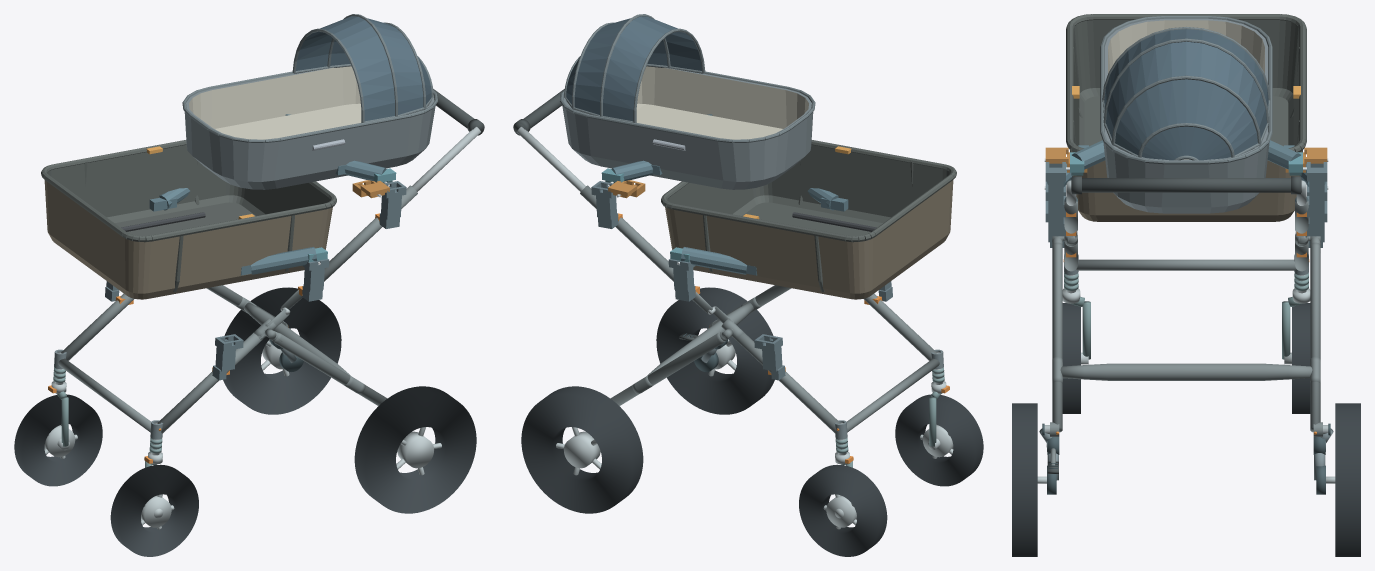
Rendered from D18_w650_state1_wheel_L.glb.
3 views of the same model, side by side, from view 1: azimuth 30°, elevation 25°; view 2: azimuth 150°, elevation 25°; view 3: azimuth 270°, elevation 25° (orthographic). The views are drawn at different scales.
Visible parts, largest first — view 1: D18_Lower, D18_Upper, RL_tire.008, RR_tire.008, FL_tire.008, FR_tire.008, D18_Lower_Mount_M, V46_rear_leg_-1.009, main_lower_-1.009, front_fixed_round_tube.008, main_upper_-1.009, main_lower_1.009 (+9 smaller); view 2: D18_Lower, D18_Upper, RR_tire.008, RL_tire.008, FR_tire.008, FL_tire.008, D18_Lower_Mount_M, V46_rear_leg_1.009, main_lower_1.009, front_fixed_round_tube.008, main_upper_1.009, main_lower_-1.009 (+9 smaller); view 3: D18_Upper, D18_Lower, V46_rearbar.009, RL_tire.008, RR_tire.008, round_handle.008, front_fixed_round_tube.008, FL_tire.008, FR_tire.008, V46_rear_leg_1.009, V46_rear_leg_-1.009, D18_Upper_Mount_H (+8 smaller).
Boxes of the visible parts, <box> form: D18_Lower: <box>41,140,336,299</box>; D18_Upper: <box>182,14,437,189</box>; RL_tire.008: <box>354,386,476,513</box>; RR_tire.008: <box>223,287,341,414</box>; FL_tire.008: <box>110,464,198,556</box>; FR_tire.008: <box>14,394,102,486</box>; D18_Lower_Mount_M: <box>149,188,327,275</box>; V46_rear_leg_-1.009: <box>272,332,387,405</box>; main_lower_-1.009: <box>157,332,264,433</box>; front_fixed_round_tube.008: <box>58,358,150,432</box>; main_upper_-1.009: <box>324,185,417,281</box>; main_lower_1.009: <box>61,293,133,360</box>; D18_Lower: <box>661,140,956,299</box>; D18_Upper: <box>560,14,815,189</box>; RR_tire.008: <box>521,386,643,513</box>; RL_tire.008: <box>656,287,774,414</box>; FR_tire.008: <box>799,464,887,556</box>; FL_tire.008: <box>895,394,983,486</box>; D18_Lower_Mount_M: <box>670,188,848,275</box>; V46_rear_leg_1.009: <box>610,332,725,405</box>; main_lower_1.009: <box>733,332,840,433</box>; front_fixed_round_tube.008: <box>847,358,939,432</box>; main_upper_1.009: <box>580,185,673,281</box>; main_lower_-1.009: <box>864,293,936,360</box>; D18_Upper: <box>1100,15,1272,213</box>; D18_Lower: <box>1066,14,1306,221</box>; V46_rearbar.009: <box>1060,363,1312,380</box>; RL_tire.008: <box>1012,403,1037,556</box>; RR_tire.008: <box>1335,403,1360,556</box>; round_handle.008: <box>1071,178,1301,192</box>; front_fixed_round_tube.008: <box>1076,259,1296,270</box>; FL_tire.008: <box>1062,303,1080,413</box>; FR_tire.008: <box>1292,303,1310,413</box>; V46_rear_leg_1.009: <box>1310,242,1320,432</box>; V46_rear_leg_-1.009: <box>1052,242,1062,432</box>; D18_Upper_Mount_H: <box>1066,140,1306,175</box>.
Bounding box in the file's own units: 1.2 × 1.35 × 0.8171.
